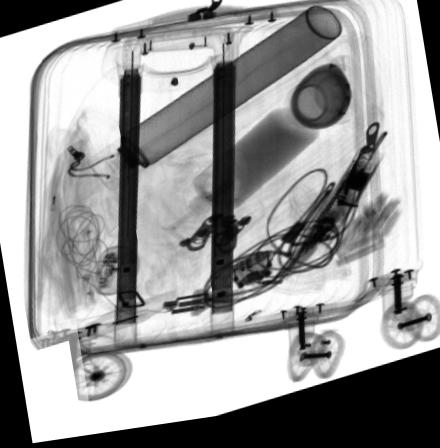Sprayer: (85, 14, 343, 192)
